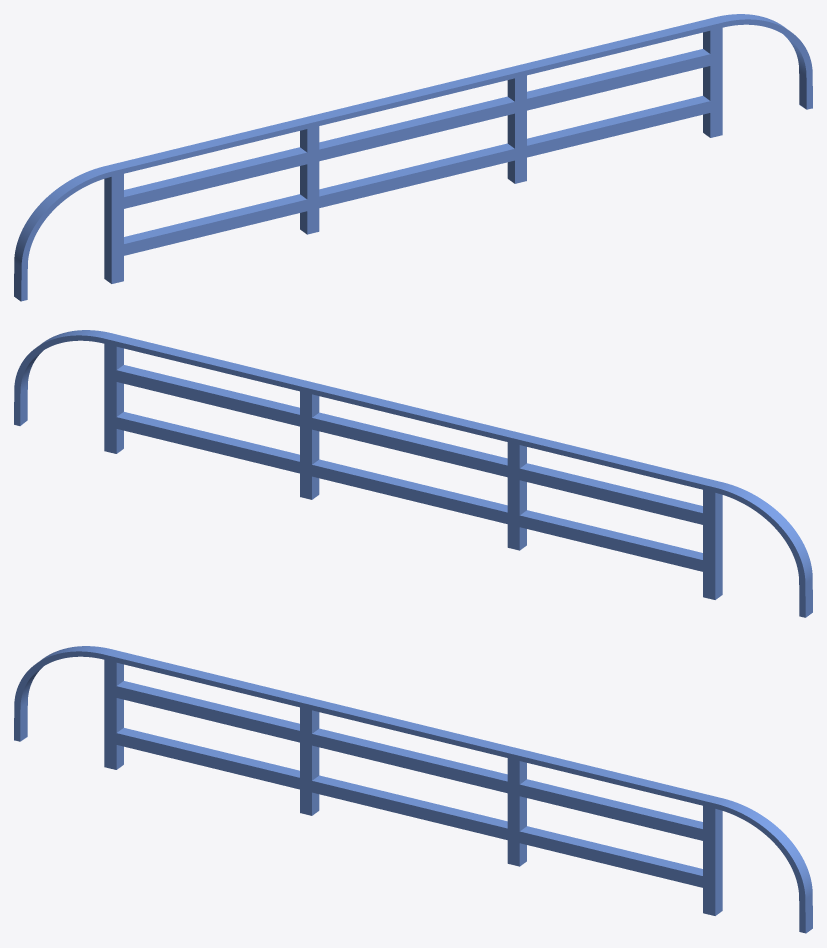
The model's file is Railing.fbx.
3 views of the same model, one above another, from view 1: azimuth 30°, elevation 25°; view 2: azimuth 150°, elevation 25°; view 3: azimuth 330°, elevation 25° (orthographic).
Visible parts, largest first — view 1: Куб.001; view 2: Куб.001; view 3: Куб.001.
Part boxes in pixels (x1=…): Куб.001: x1=14, y1=14, x2=812, y2=301; Куб.001: x1=14, y1=330, x2=812, y2=617; Куб.001: x1=14, y1=646, x2=812, y2=933.
Bounding box in the file's own units: 16.18 × 2.2 × 0.26.
